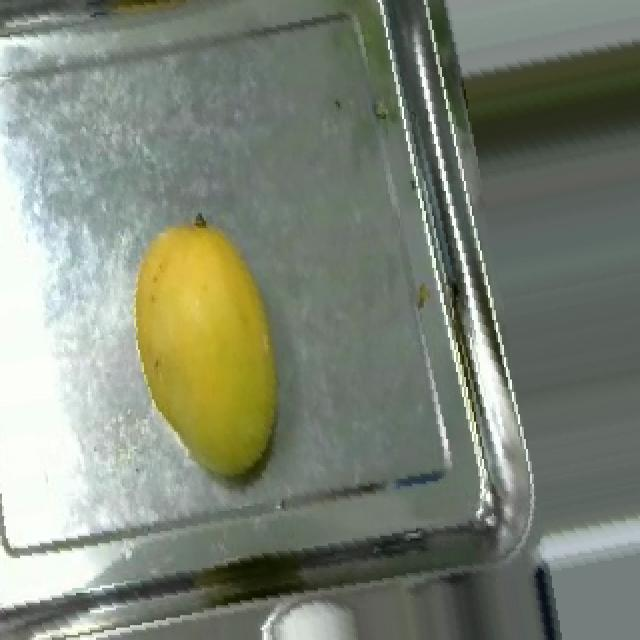fruit: (94, 196, 328, 506)
